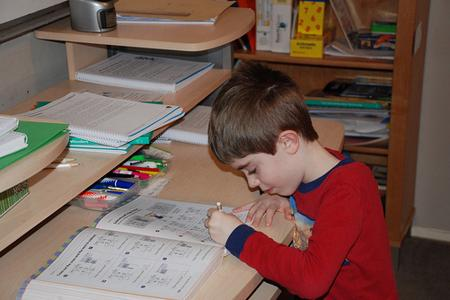person: (209, 62, 400, 298)
